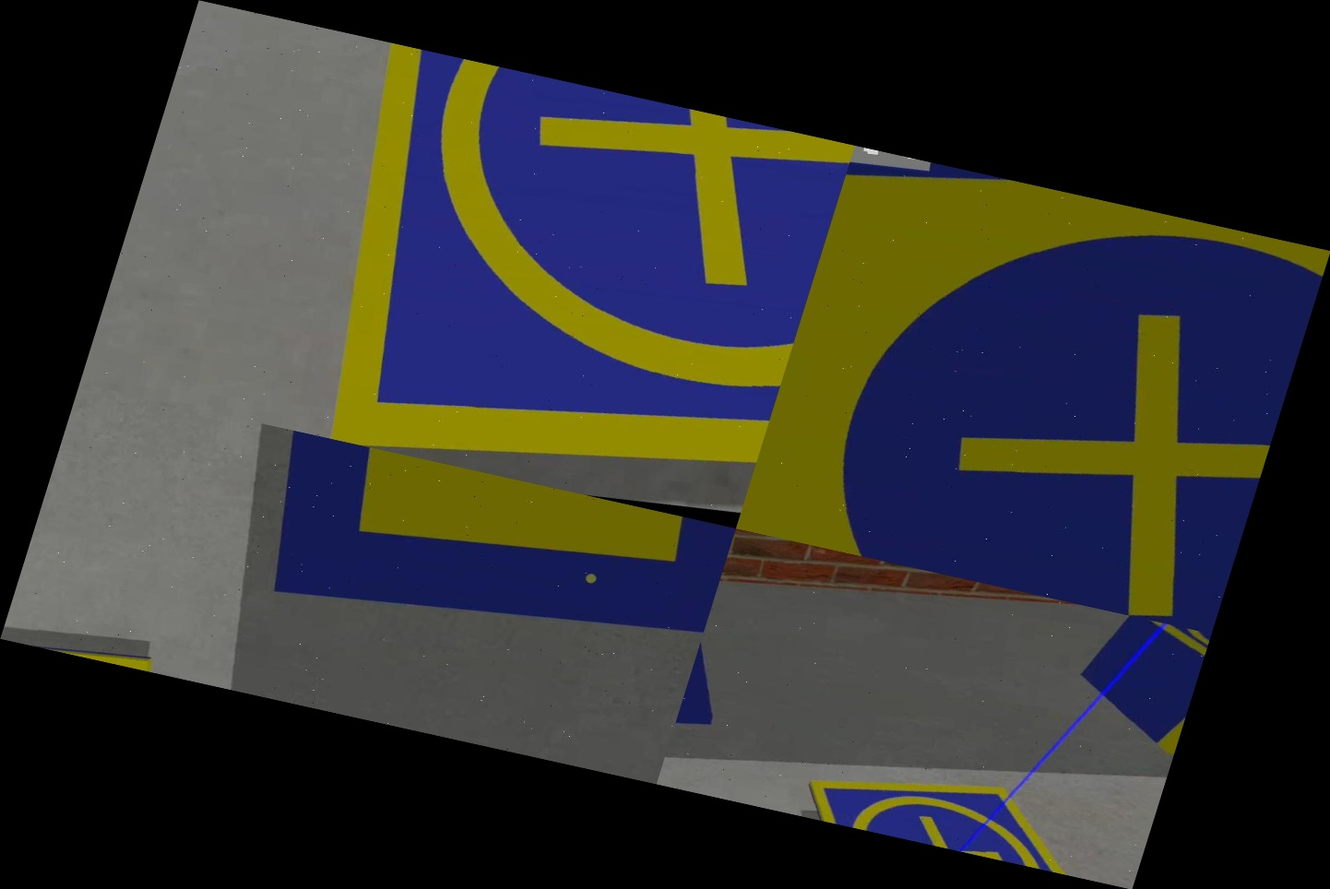large_base: (736, 146, 1329, 634), (203, 421, 736, 685)
small_base: (251, 38, 855, 528), (795, 730, 1158, 889), (0, 623, 164, 673), (1115, 615, 1210, 677)
